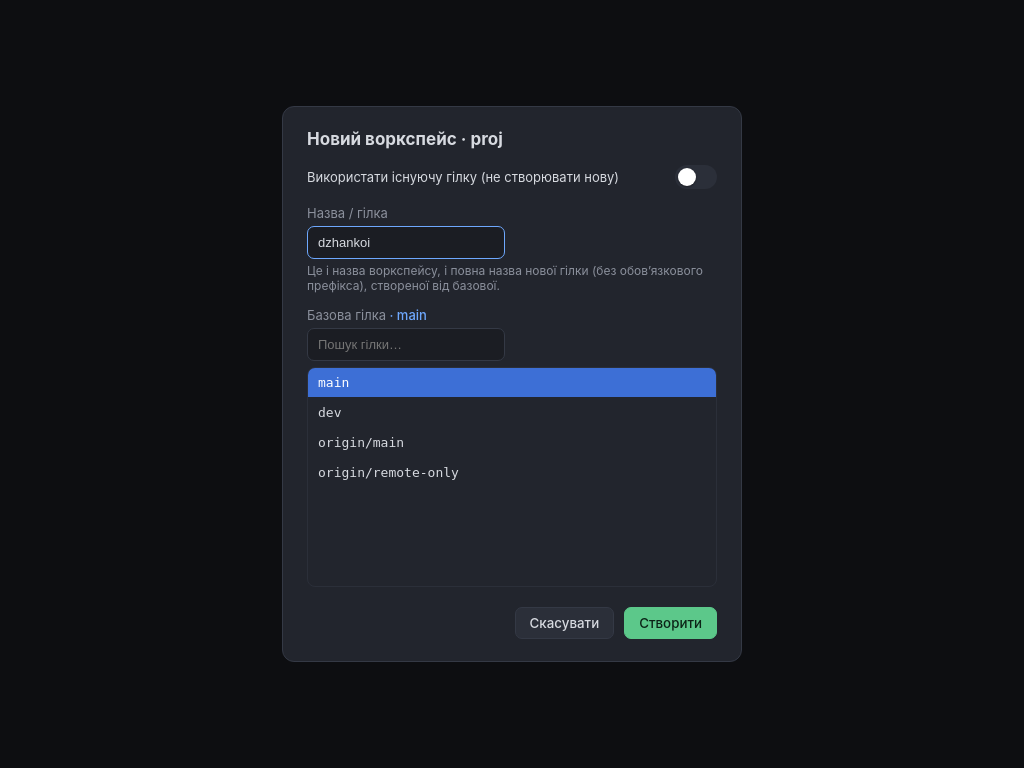
Test: NewWorkspaceModal › Enter in search selects the first filtered branch
Expected: the text "dev" is shown, [308,398,716,428]
Type "de" into the field with placeholder "Пошук гілки…" at (406, 344), box [307,328,505,361]
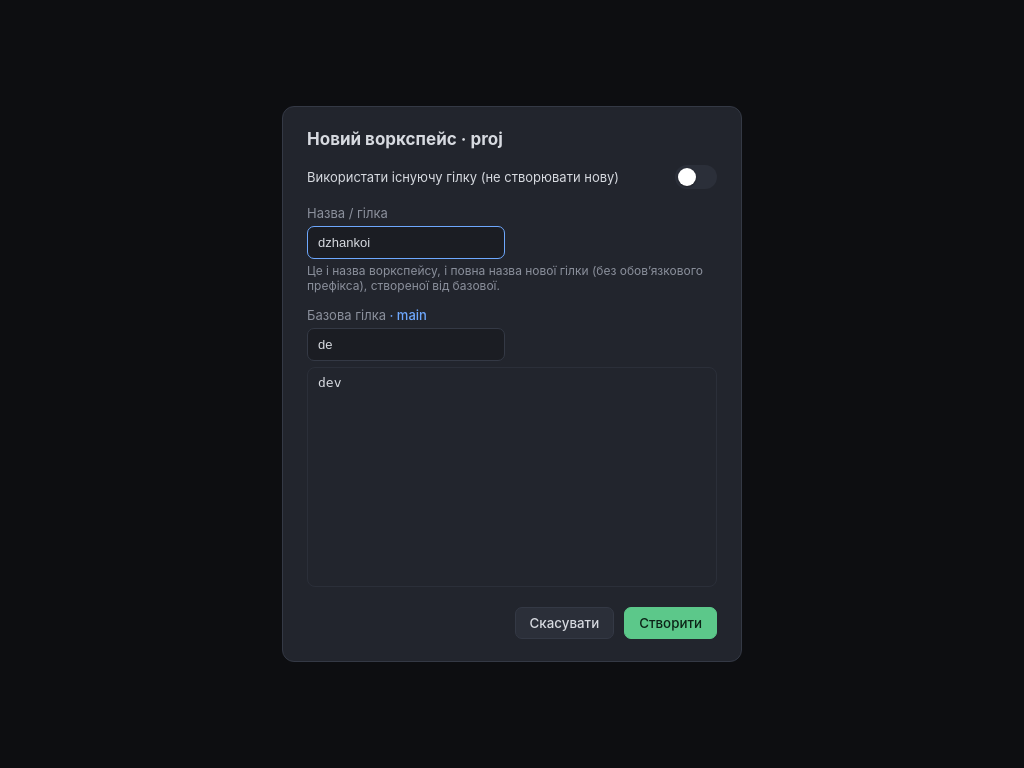
Press Enter in the field with placeholder "Пошук гілки…" below "Базова гілка", box [307,328,505,361]
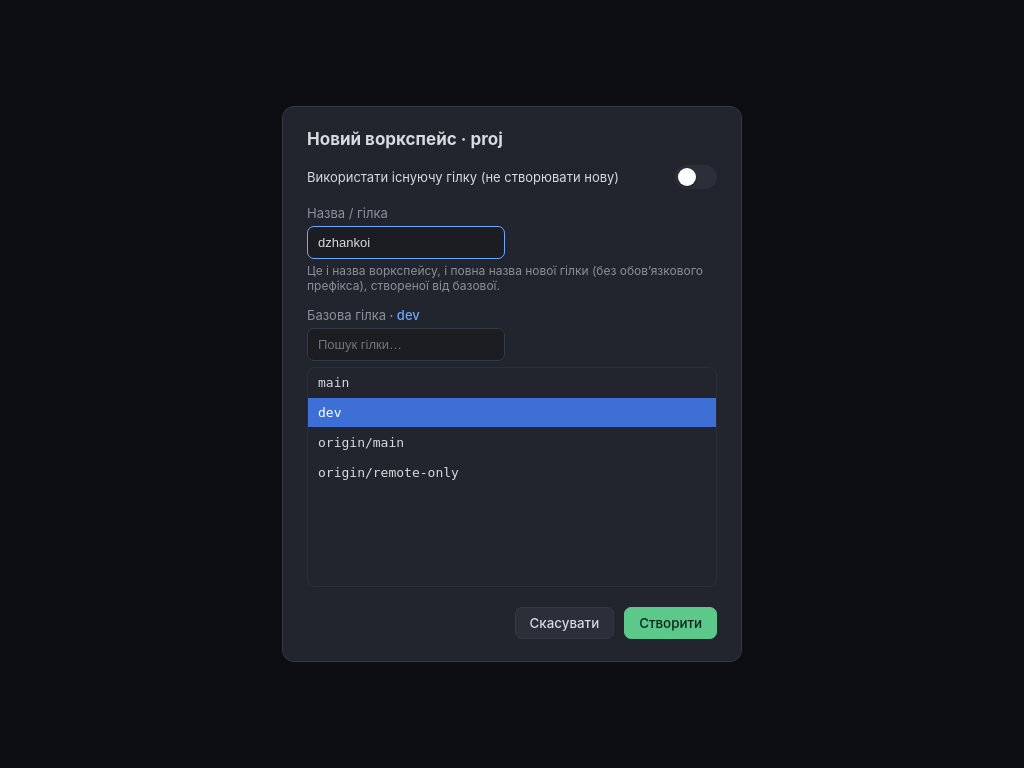
Now the text "Базова гілка · dev" is shown, box [307,307,420,323]
